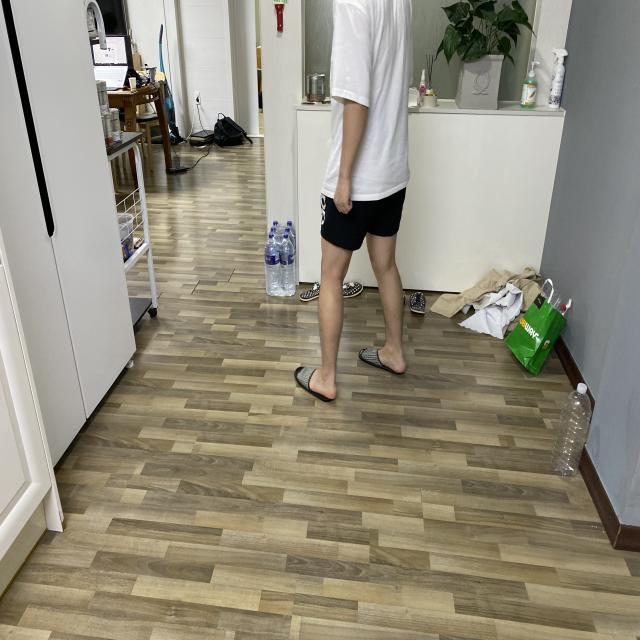no-boots: (356, 334, 412, 394), (288, 355, 344, 415)
